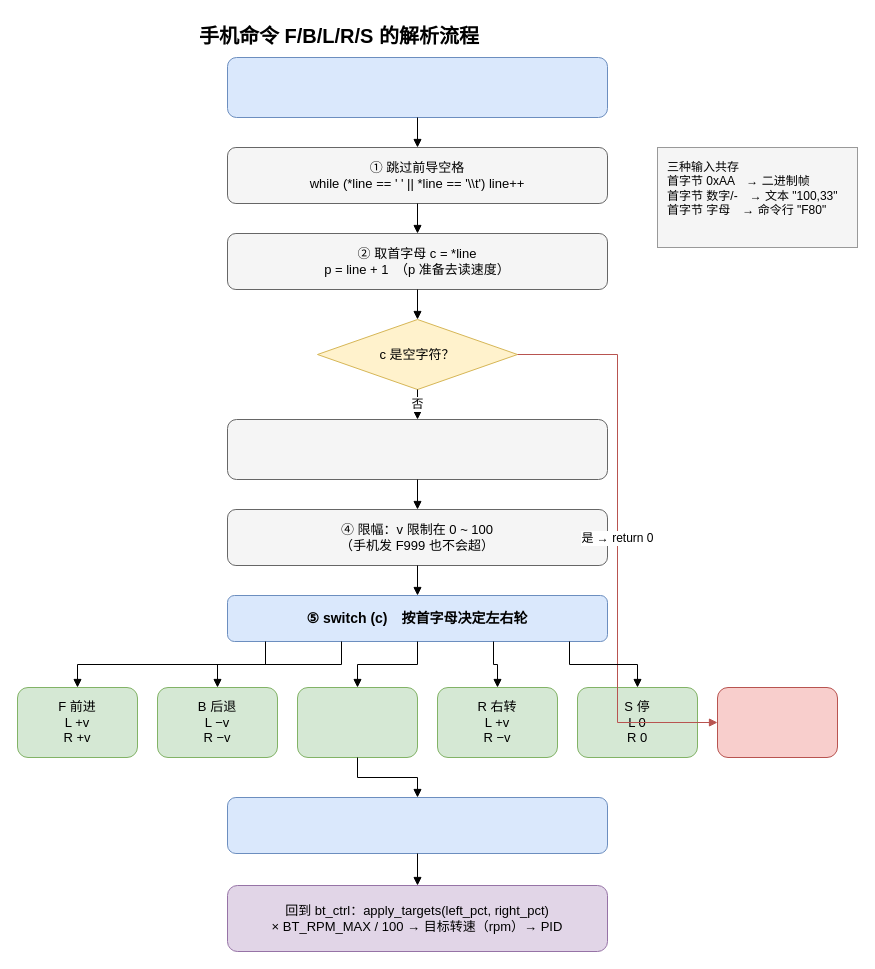
Image size: 875x969. Some labels were removed from this diagram. Here are the shapes that lost their labels. From the top down, the centre of each, then its label:
pixel 417 87: cmd_parse("F80") 调用者：bt_ctrl 收到换行后调用
pixel 417 449: ③ 读后面的数字：parse_uint(&p, &tmp) 读到了就用它，没读到就保持默认 v = 100
pixel 357 722: L 左转 L −v R +v
pixel 777 722: 其他字母 return 0
pixel 417 825: ⑥ 写 out->left_pct / right_pct，valid = 1，return 1
